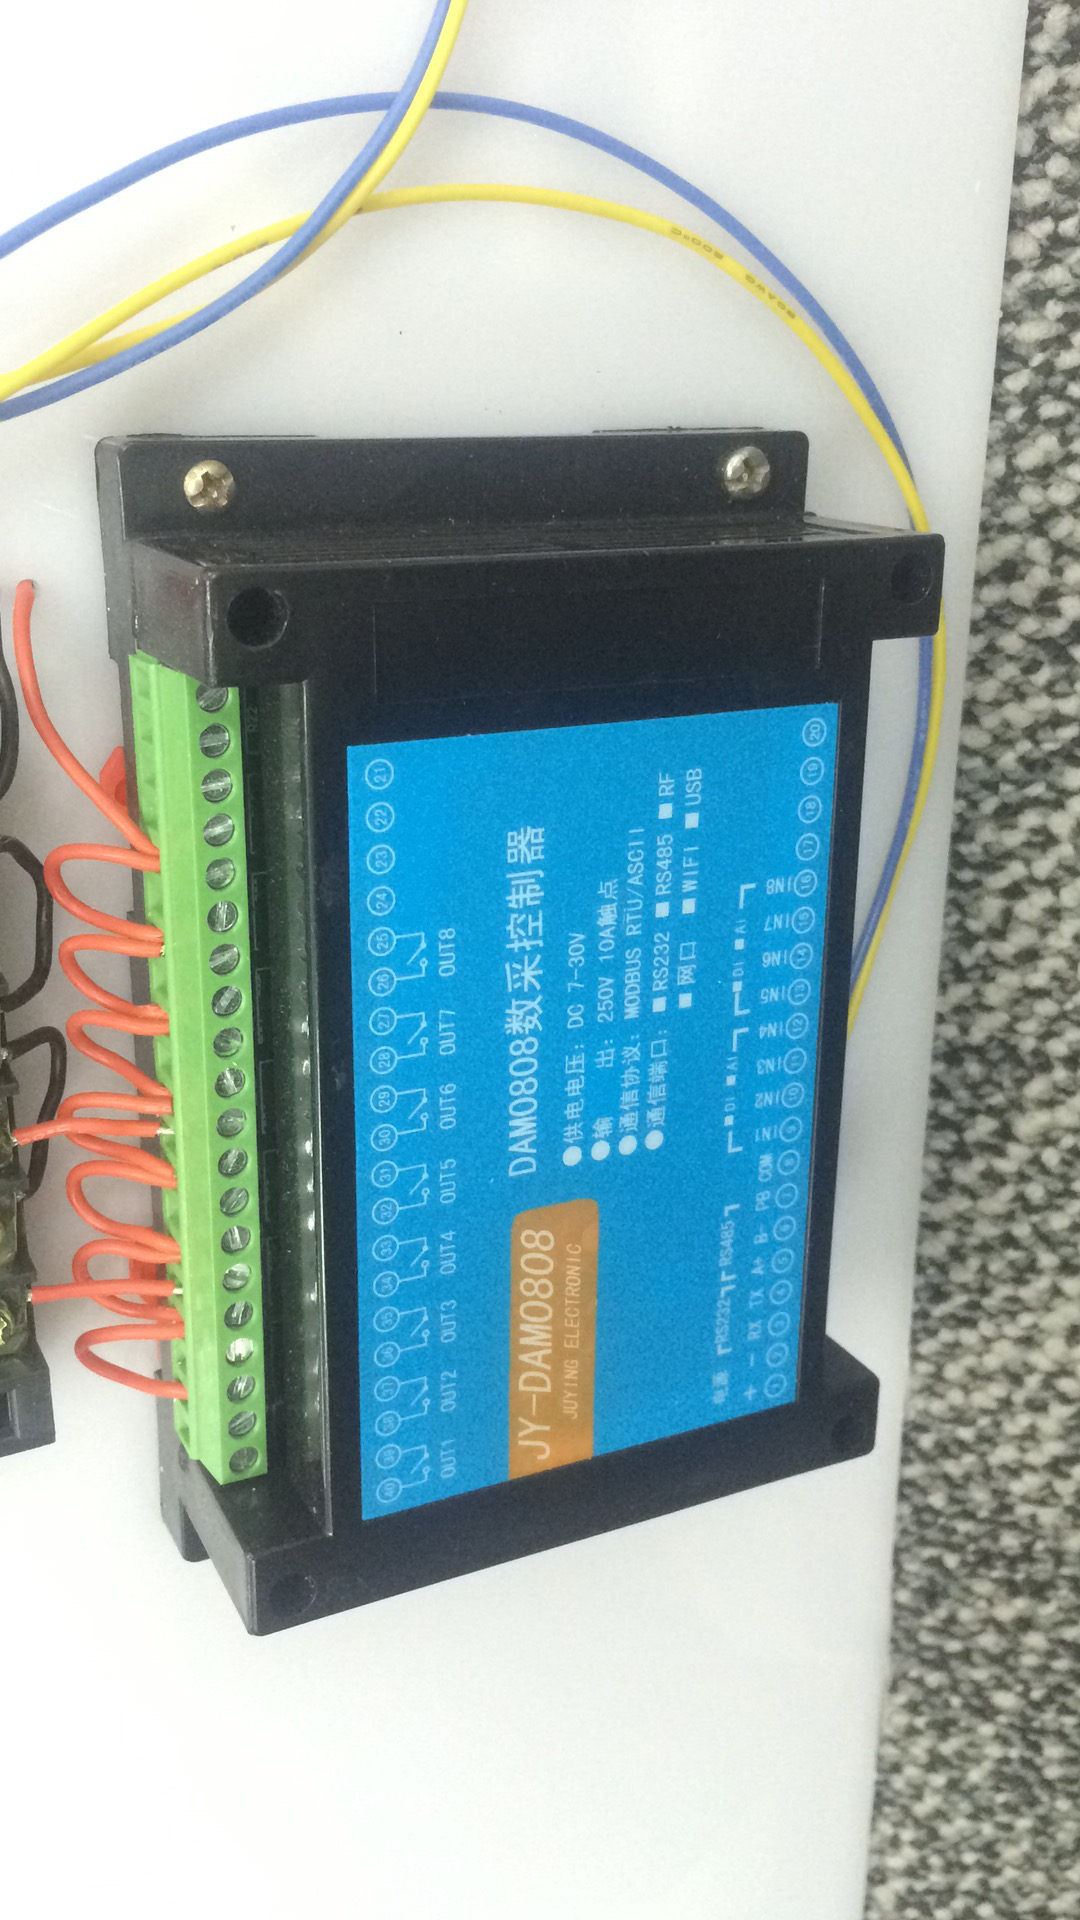relay: (84, 418, 891, 1648)
